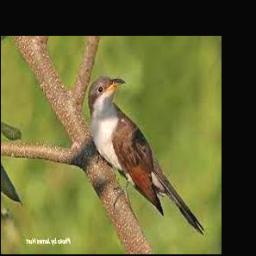Cuckoo: (88, 77, 206, 235)
